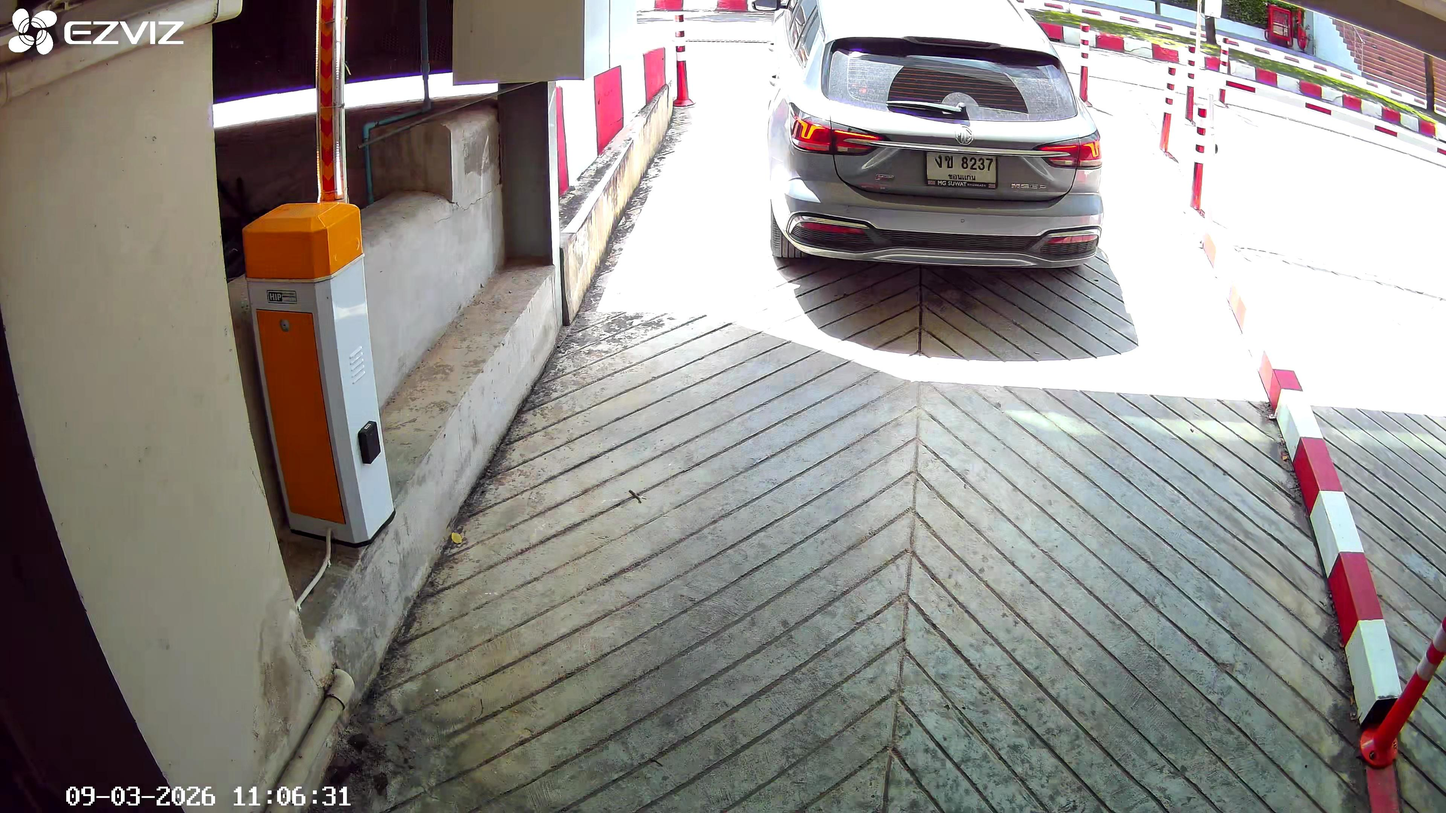car: (766, 1, 1111, 287)
license-plate: (922, 145, 998, 189)
